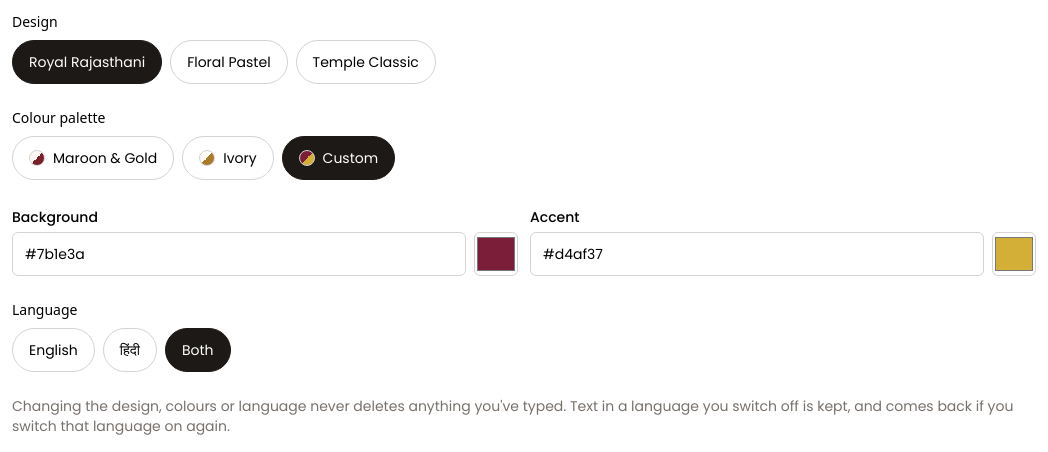
Test case: TemplateStep › custom colours › switching to Temple uses its palette and keeps the colours; switching back shows them again
Step 1. Click the button "Temple Classic" → (366,62), box [296,40,436,84]
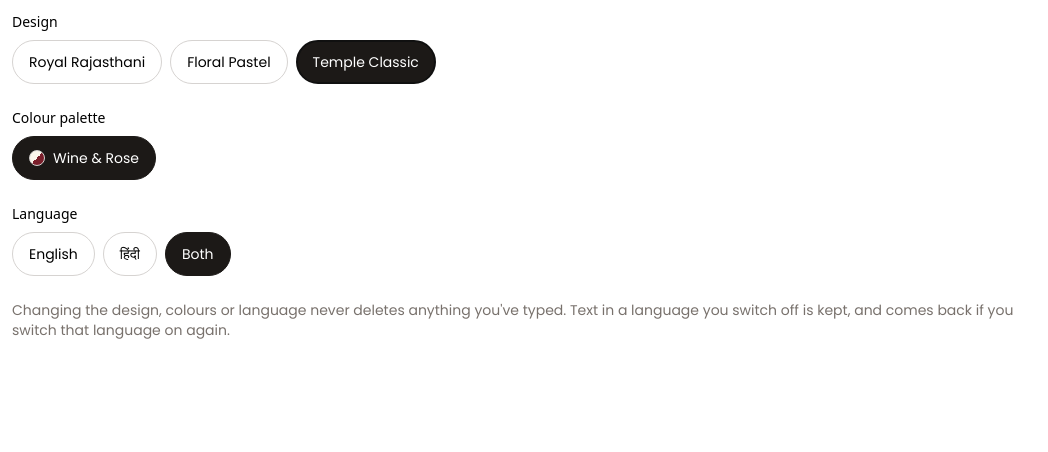
Expected: the label labelled "Background" is gone
Step 2. Click the button "Royal Rajasthani" → (87,62), box [12,40,162,84]
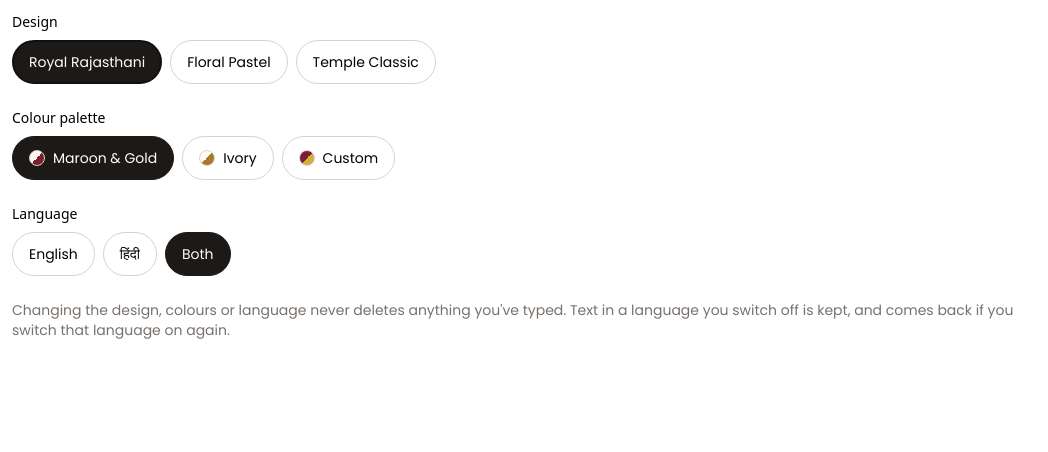
Step 3. Click the button "Custom" → (338,158), box [282,136,395,180]
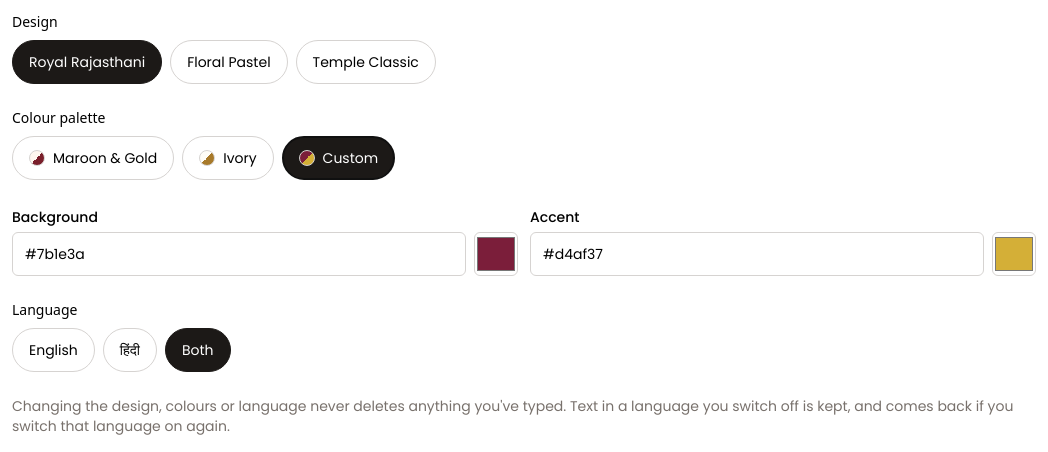
Expected: the field labelled "Background" holds "#7b1e3a", [12,232,466,276]
